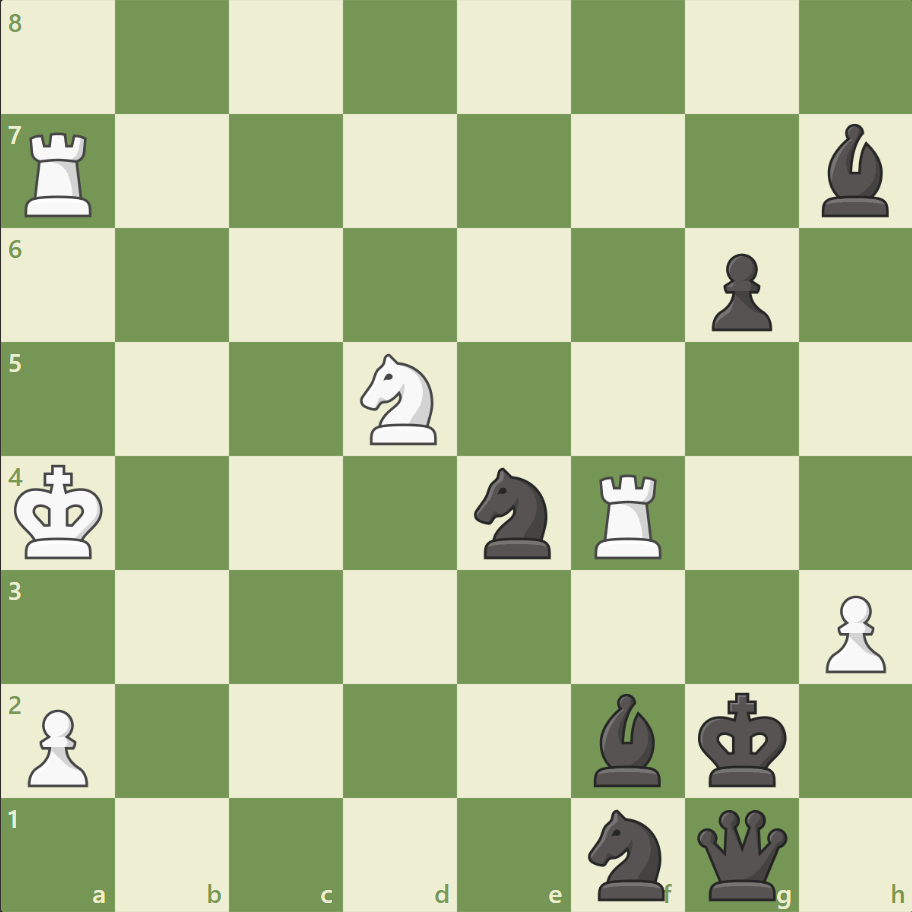K: (11, 458, 111, 566)
N: (351, 348, 449, 450)
P: (20, 700, 95, 791), (815, 586, 889, 677)
R: (19, 125, 102, 222), (587, 466, 670, 563)
b: (585, 687, 669, 790), (812, 120, 896, 222)
k: (692, 685, 792, 793)
n: (465, 461, 562, 564), (579, 802, 676, 904)
p: (701, 246, 776, 337)
q: (691, 804, 790, 903)
